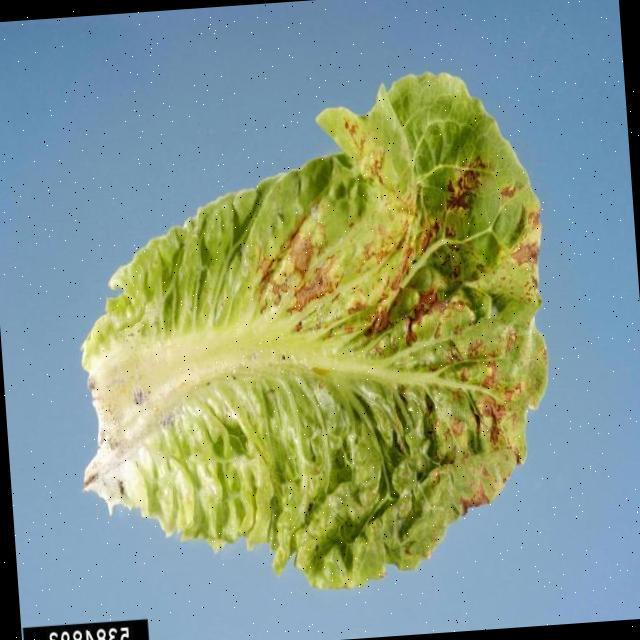Lettuce Mosaic Virus: (227, 183, 506, 506)
